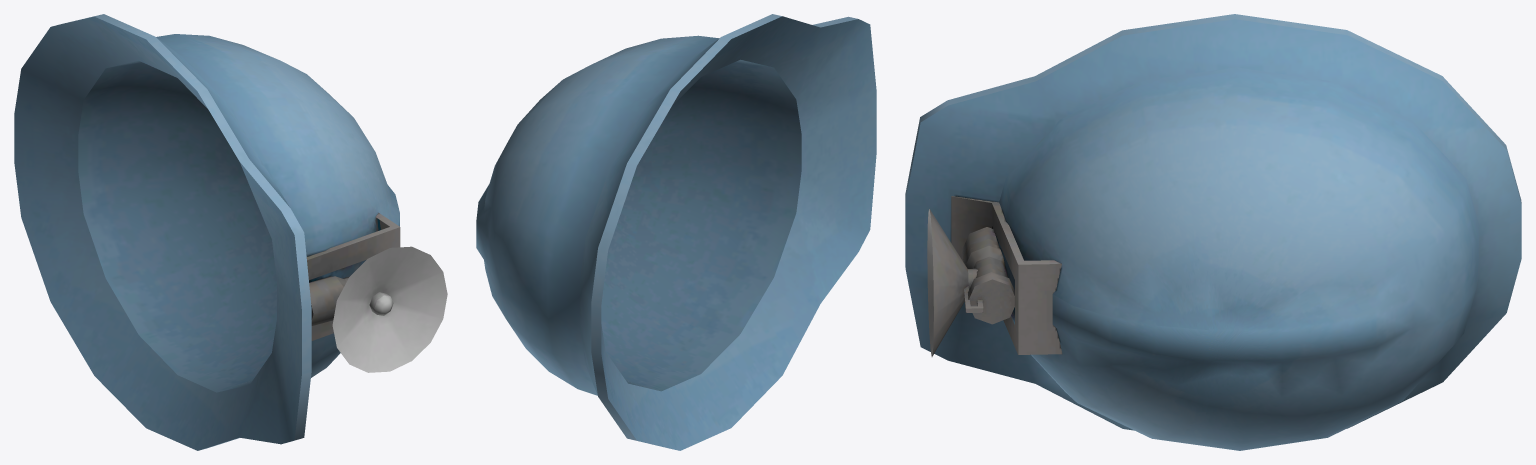
File: props_2fort_hardhat001.glb
The picture shows the model from 3 angles, left to right: view 1: azimuth 30°, elevation 25°; view 2: azimuth 150°, elevation 25°; view 3: azimuth 270°, elevation 25°; orthographic projection. The views are drawn at different scales.
Visible parts, largest first — view 1: models/props_2fort/hardhat001; view 2: models/props_2fort/hardhat001; view 3: models/props_2fort/hardhat001.
Part boxes in pixels (x1,y1,x2,y2): models/props_2fort/hardhat001: (14, 14, 447, 450); models/props_2fort/hardhat001: (476, 14, 876, 450); models/props_2fort/hardhat001: (905, 14, 1521, 450).
Bounding box in the file's own units: 8.47 × 14.14 × 18.57.
Materials: 1 (1 with a texture image).
